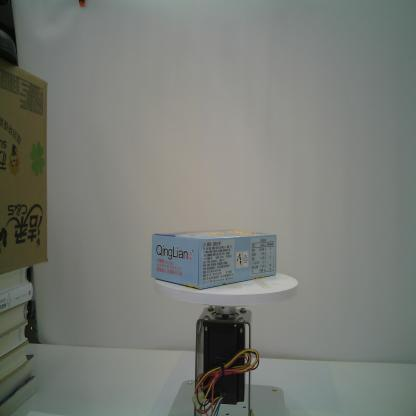Dessert: (151, 229, 277, 290)
